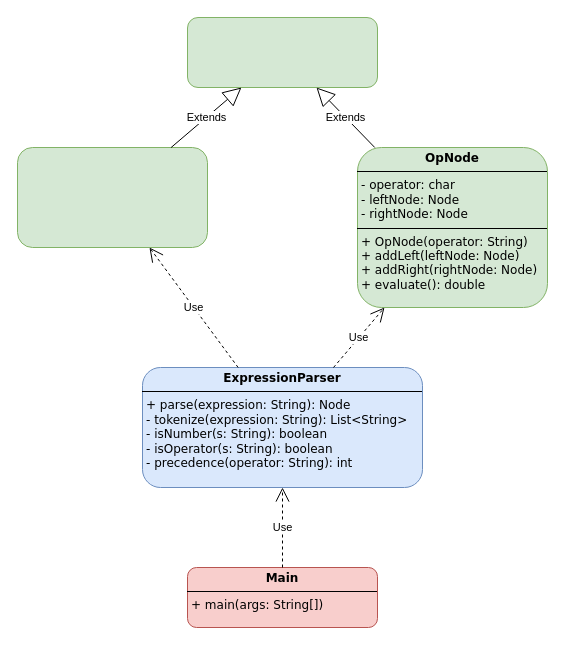
Some shapes in this 565 by 645 pixel diagram are drawn without their labels. Each missing label, with the box of its shape:
<<Abstract>> Node + abstract evaluate(): double: (186, 16, 378, 88)
NumNode - value: double + NumNode(value: double) + evaluate(): double: (16, 146, 208, 248)
